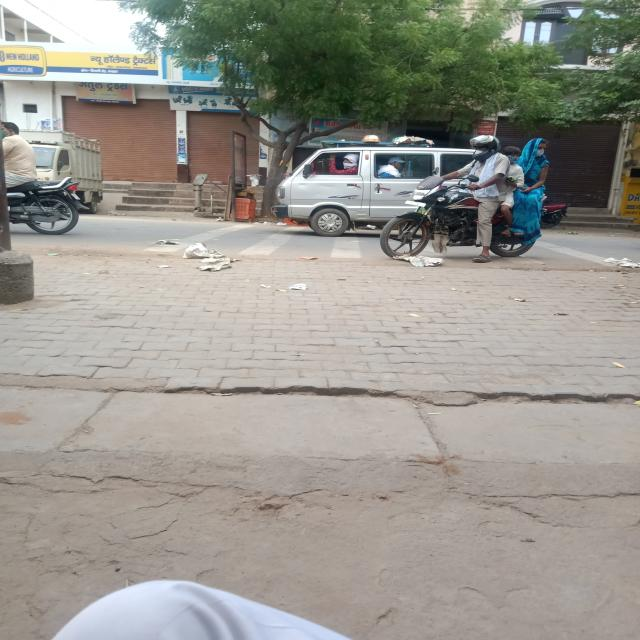Bike: (386, 192, 555, 264)
cars: (270, 140, 417, 223)
